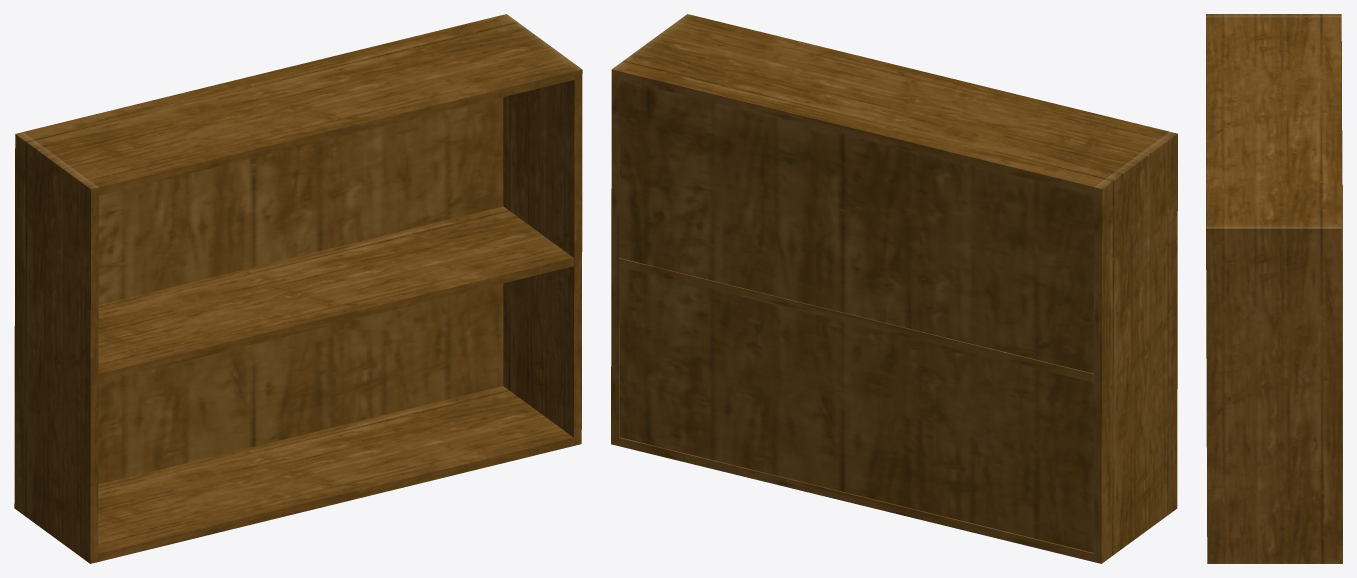
File: cabin04a.fbx
The picture shows the model from 3 angles, left to right: view 1: azimuth 30°, elevation 25°; view 2: azimuth 150°, elevation 25°; view 3: azimuth 270°, elevation 25°; orthographic projection. The views are drawn at different scales.
Parts seen in each view (by area): view 1: cabin04a; view 2: cabin04a; view 3: cabin04a.
Part boxes in pixels (<box>): cabin04a: <box>14,14,582,563</box>; cabin04a: <box>611,14,1177,563</box>; cabin04a: <box>1206,14,1342,563</box>.
Size of the model in its own units: 124 by 90.41 by 33.45.
